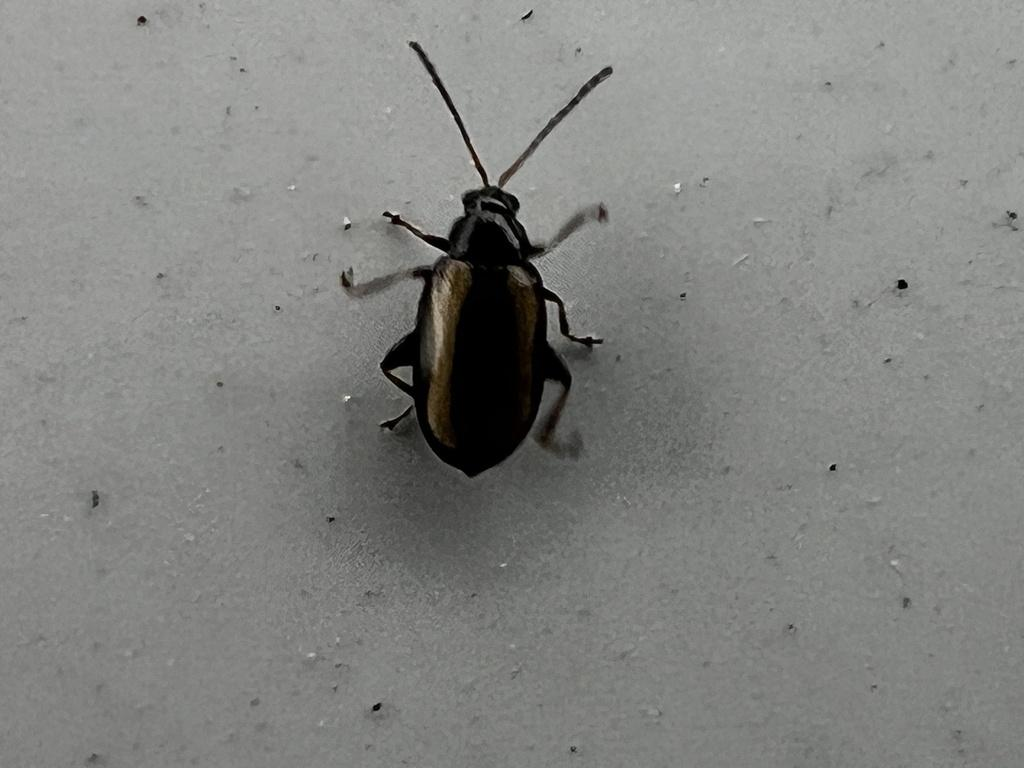flea_beetle: (302, 0, 654, 516)
